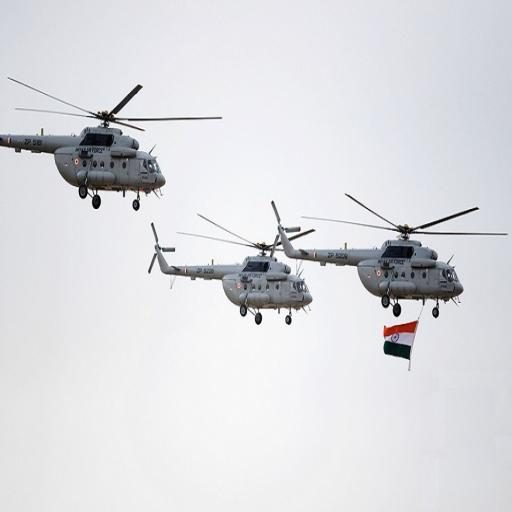helicopter: (264, 164, 477, 335), (2, 46, 191, 218), (124, 199, 321, 345)
